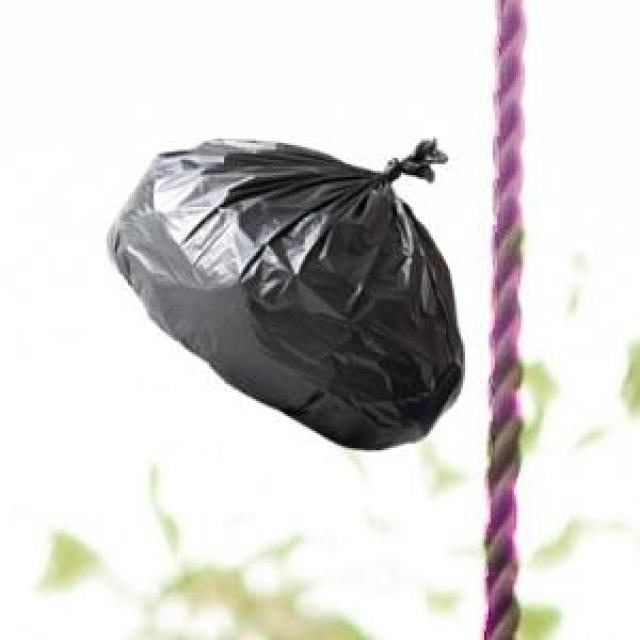miscellaneous trash: (102, 134, 461, 446)
